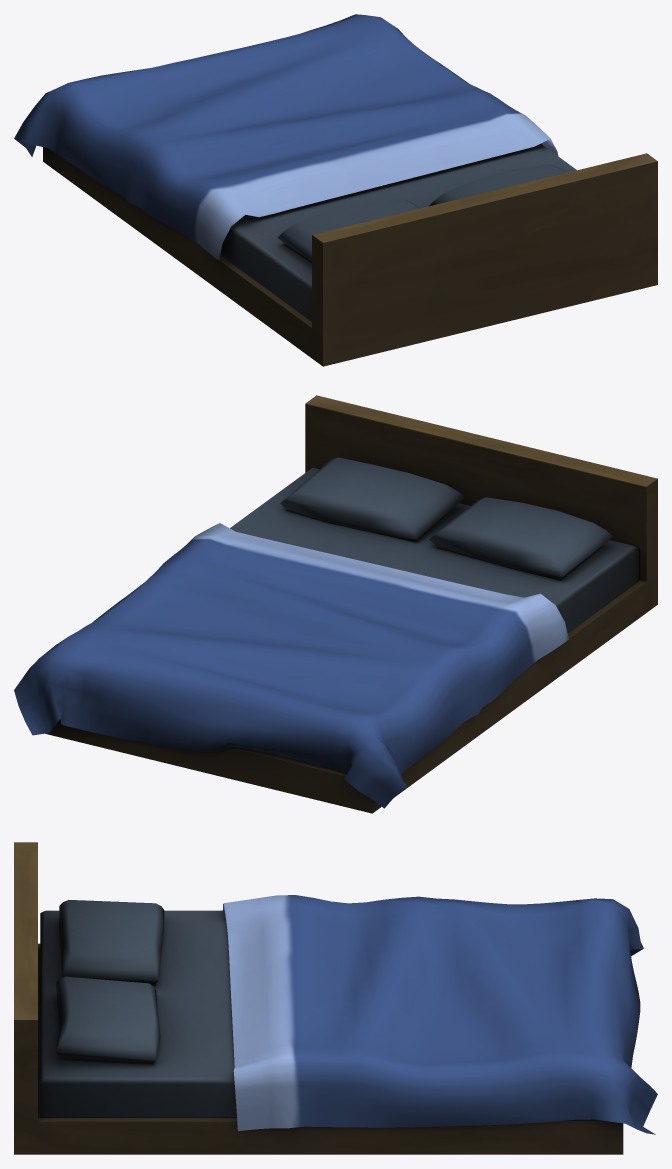
Rendered from bed.fbx.
The picture shows the model from 3 angles, top to bottom: view 1: azimuth 30°, elevation 25°; view 2: azimuth 150°, elevation 25°; view 3: azimuth 270°, elevation 25°; orthographic projection. The views are drawn at different scales.
Visible parts, largest first — view 1: bed; view 2: bed; view 3: bed.
Part boxes in pixels (x1=…): bed: x1=14, y1=14, x2=657, y2=366; bed: x1=14, y1=395, x2=657, y2=813; bed: x1=14, y1=842, x2=657, y2=1154.
Size of the model in its own units: 422 by 130 by 566.
